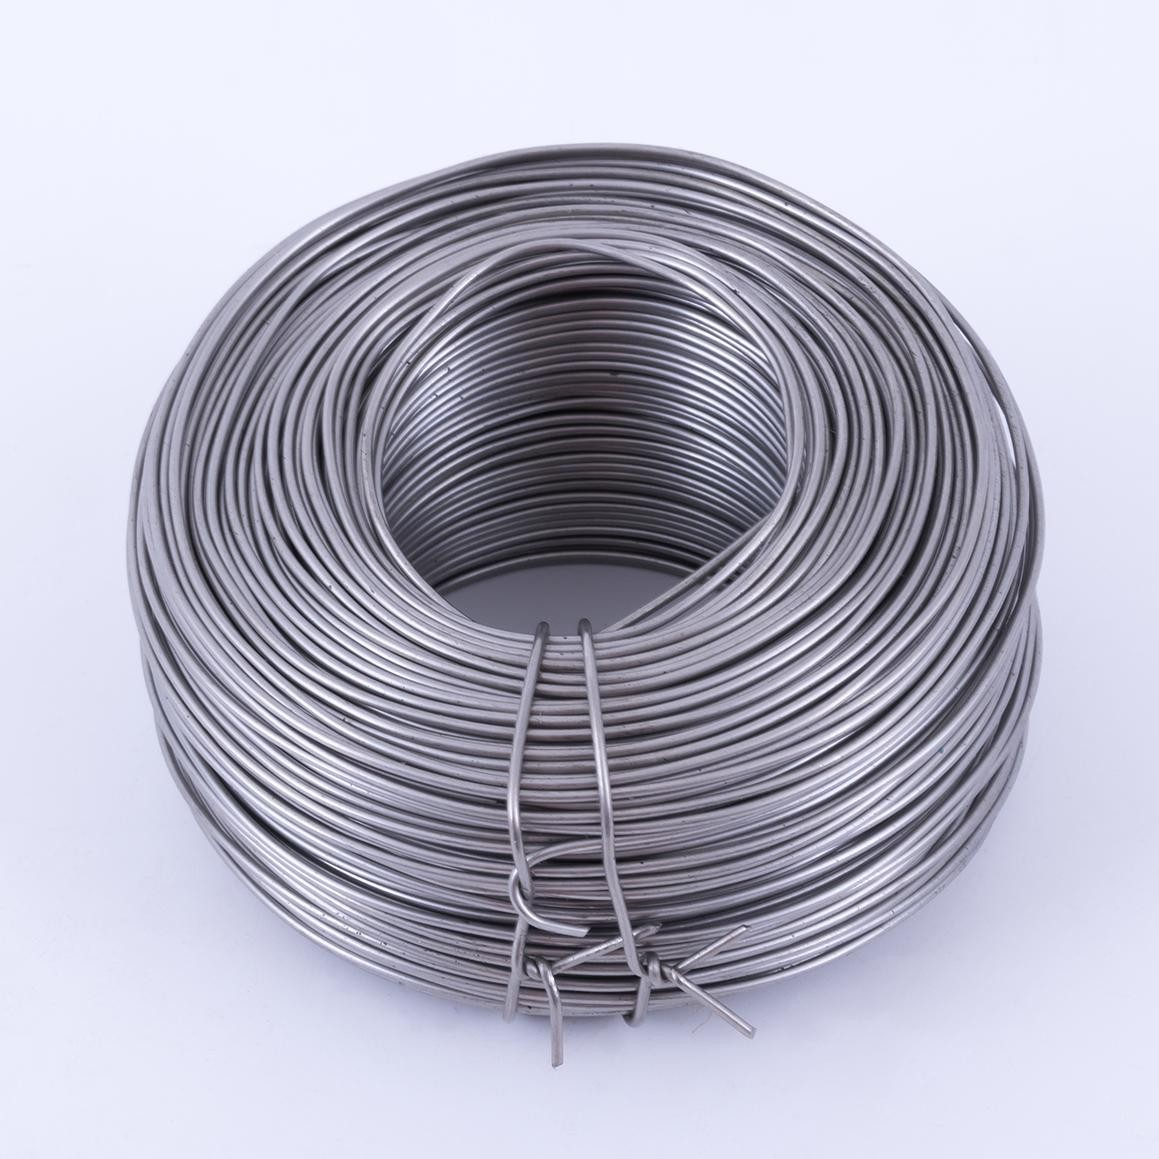Nonrec_Tangler: (71, 104, 1102, 1038)
